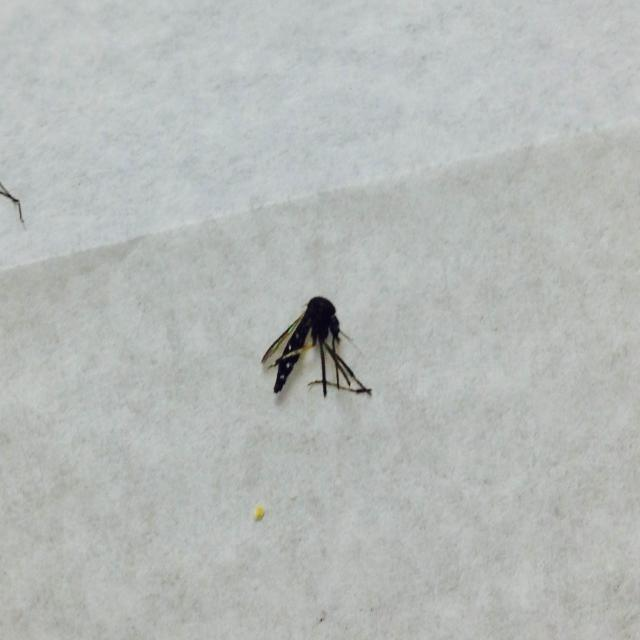albopictus: (256, 294, 369, 406)
